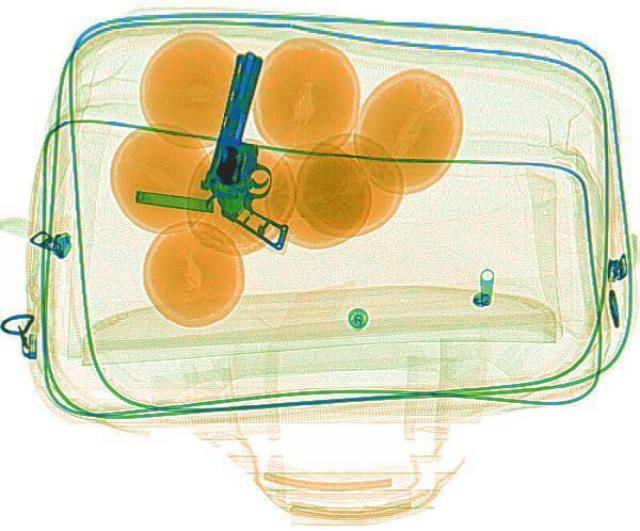Gun: (184, 45, 330, 251)
